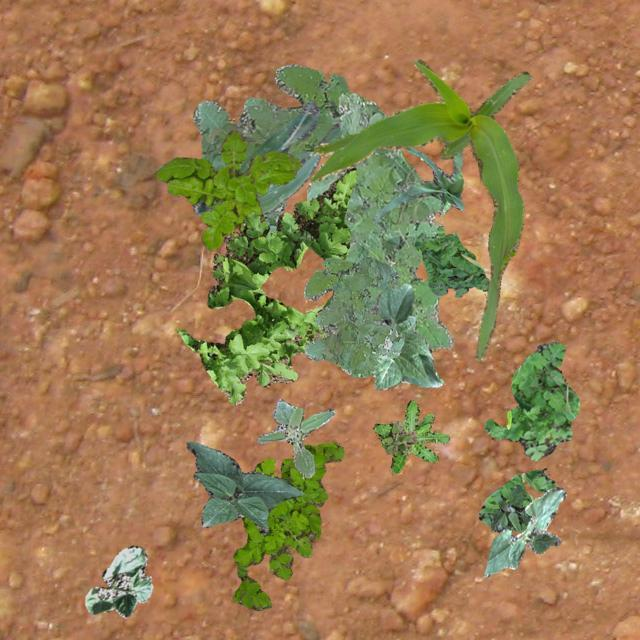crop: (308, 57, 530, 360), (192, 101, 340, 215), (185, 441, 303, 534), (372, 282, 442, 388), (482, 488, 566, 576), (372, 146, 464, 222), (84, 544, 152, 618)
weed: (178, 165, 356, 404), (306, 92, 452, 350), (192, 64, 348, 232), (232, 440, 344, 610), (154, 128, 300, 250), (302, 256, 402, 376), (482, 340, 578, 460), (256, 398, 334, 476), (372, 400, 448, 472), (413, 224, 488, 296), (478, 468, 554, 530), (490, 484, 530, 532), (384, 419, 416, 454)
